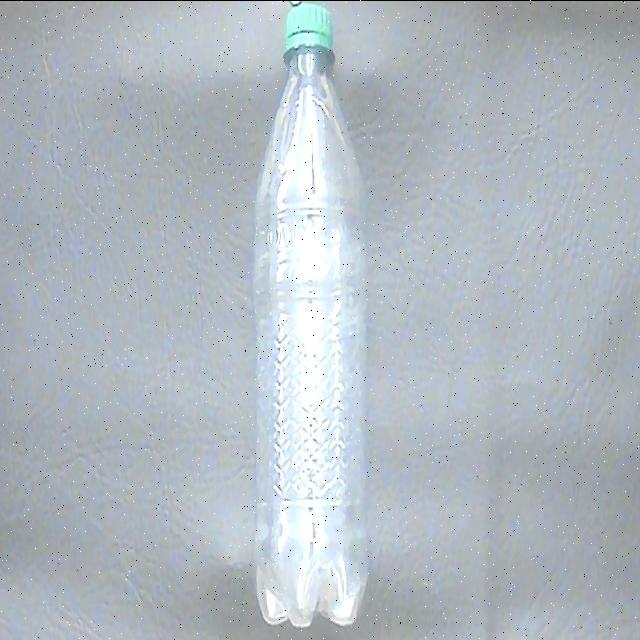plastic: (250, 4, 374, 632)
